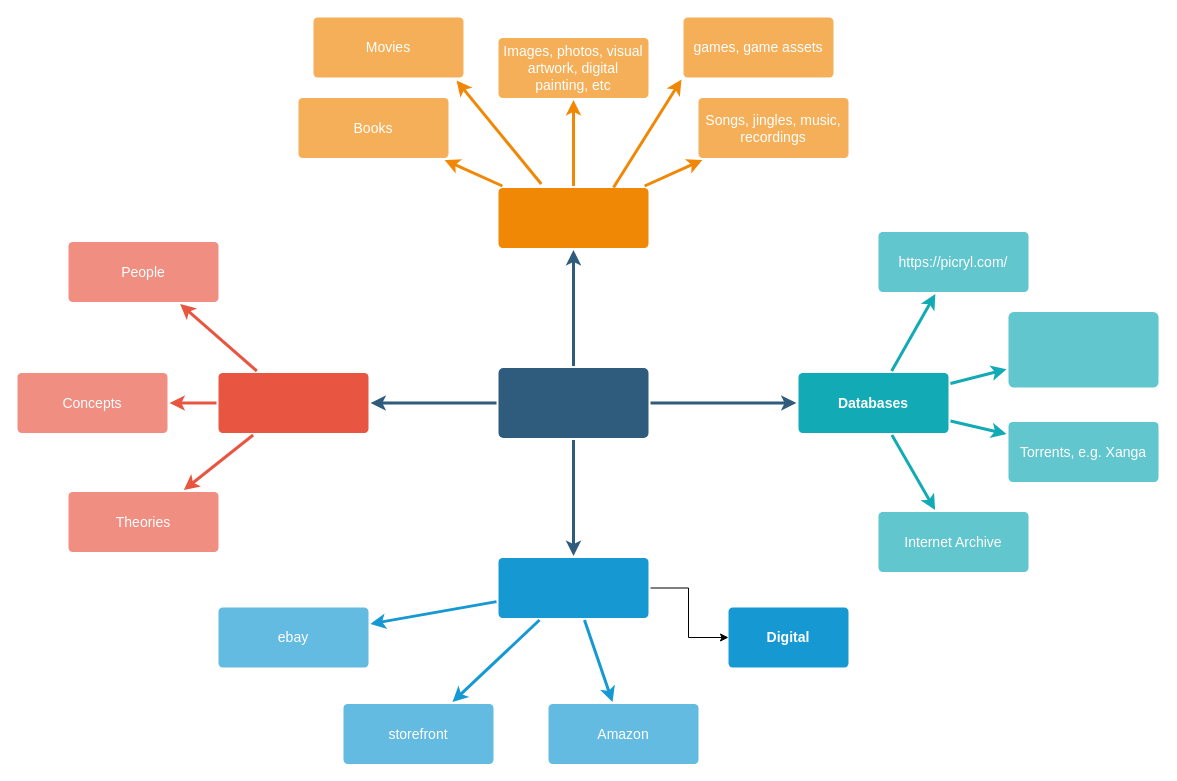
The diagram is 1177 pixels wide and 781 high, and some of its shapes have lost their labels. The box of each missing label's shape, as (x1, y1, x2, y2) in pixels:
Categories: (218, 372, 368, 432)
Distribution channels for physical media: (498, 558, 648, 618)
Library of Congress, e.g. https://www.loc.gov/free-to-use/: (1008, 312, 1158, 387)
Programmatic Curation: (498, 368, 648, 438)
Public Domain Contents: (498, 188, 648, 248)
